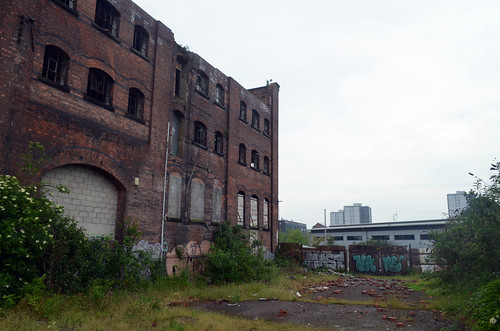building: (1, 9, 287, 267), (304, 222, 459, 275), (326, 195, 373, 225), (447, 191, 469, 217)
graffiti: (130, 238, 211, 283), (299, 248, 347, 272), (349, 250, 401, 271)
